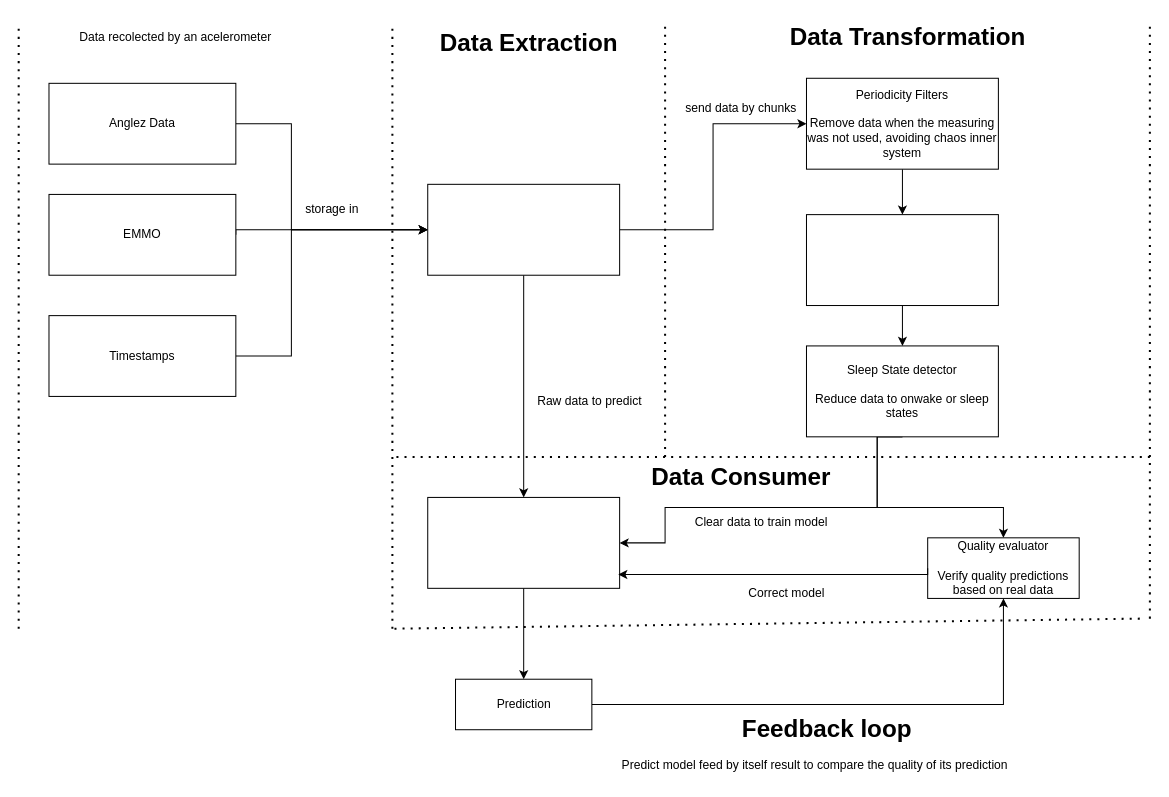
Some shapes in this 1169 by 797 pixel diagram are drawn without their labels. Here are the shapes that lost their labels. From the top down, the box of each, then its label:
(427, 183, 620, 275): Daily Record Save all data recorded from a day
(805, 214, 998, 306): Features Sorter Add tags to classify raw data
(427, 496, 620, 588): Predict Model Predicts awarness state
